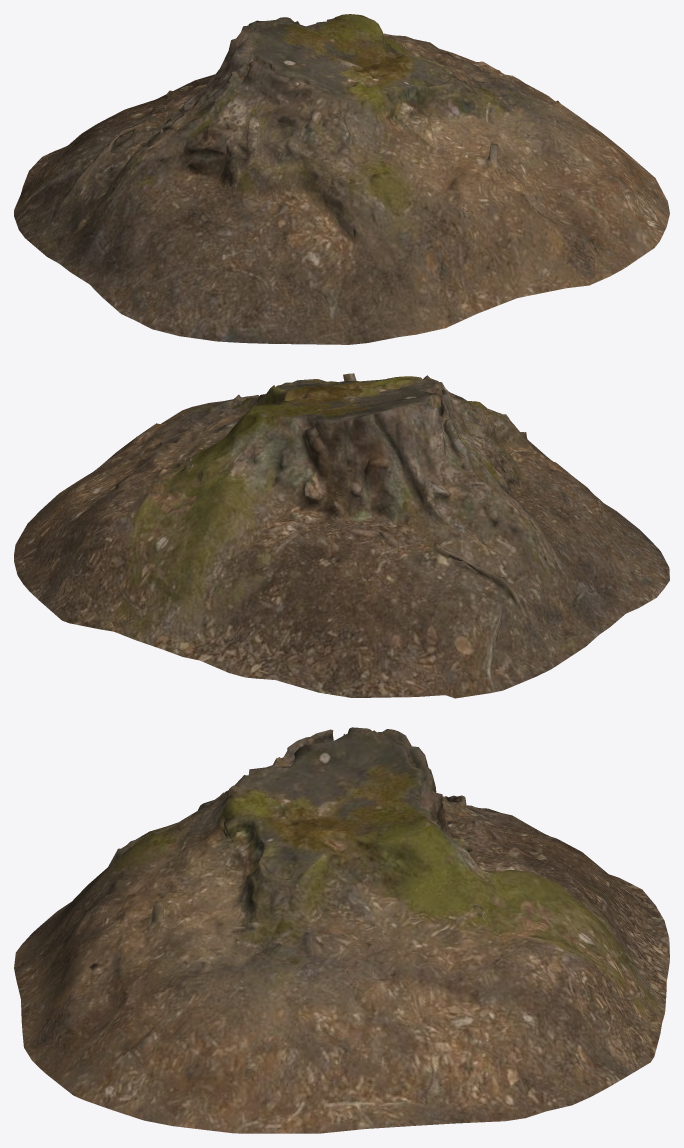
Rendered from tree_stump_02.glb.
3 renders of one model, top to bottom at view 1: azimuth 30°, elevation 25°; view 2: azimuth 150°, elevation 25°; view 3: azimuth 270°, elevation 25°, orthographic. The views are drawn at different scales.
Visible parts, largest first — view 1: tree_stump_02; view 2: tree_stump_02; view 3: tree_stump_02.
Part boxes in pixels (left/top/right/bottom): tree_stump_02: left=14, top=14, right=669, bottom=344; tree_stump_02: left=14, top=373, right=669, bottom=698; tree_stump_02: left=14, top=727, right=669, bottom=1133.
Bounding box in the file's own units: 1.52 × 0.5208 × 1.39.
1 material, 1 textured.
